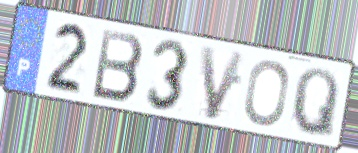2: (44, 21, 93, 100)
3: (144, 37, 192, 114)
B: (89, 26, 146, 106)
O: (242, 59, 291, 128)
Q: (289, 66, 341, 142)
V: (198, 43, 249, 123)
